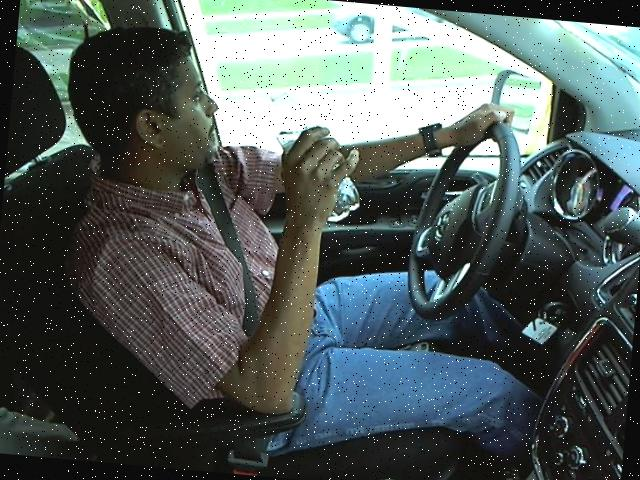c4 - Drinking: (34, 8, 542, 444)
